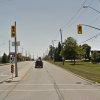Traffic light: (7, 19, 20, 47)
